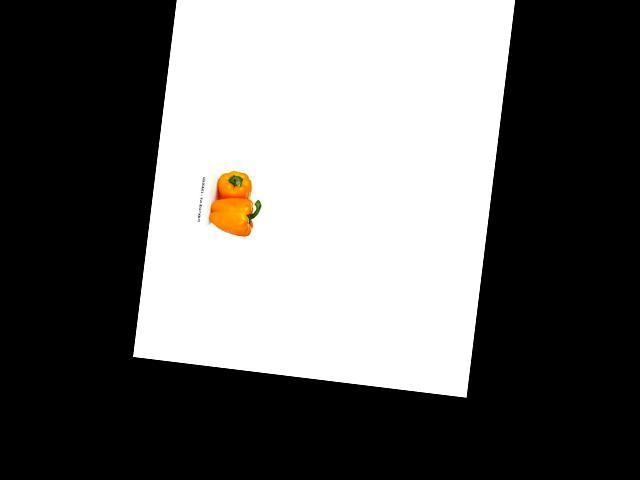bell_pepper: (213, 168, 256, 204)
